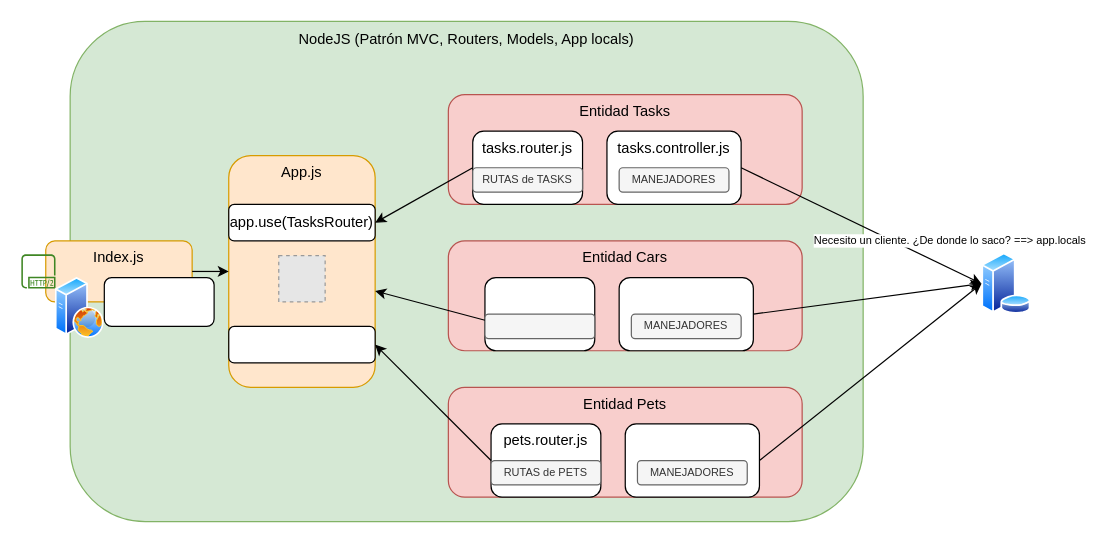
This 1107x543 diagram has some shape labels left out. Grey dashed boxes stand in for pictures. Each missing label, with the box of its shape:
app.use(PetsRouter): (228, 325, 375, 363)
cars.controller.js: (618, 276, 753, 351)
cars.router.js: (484, 276, 595, 351)
En el index creo la BBDD y la pongo en el locals: (103, 276, 214, 326)
MONGODB (atlas): (981, 253, 1031, 314)
pets.controller.js: (624, 423, 759, 497)
RUTAS de CARS: (484, 313, 595, 339)
